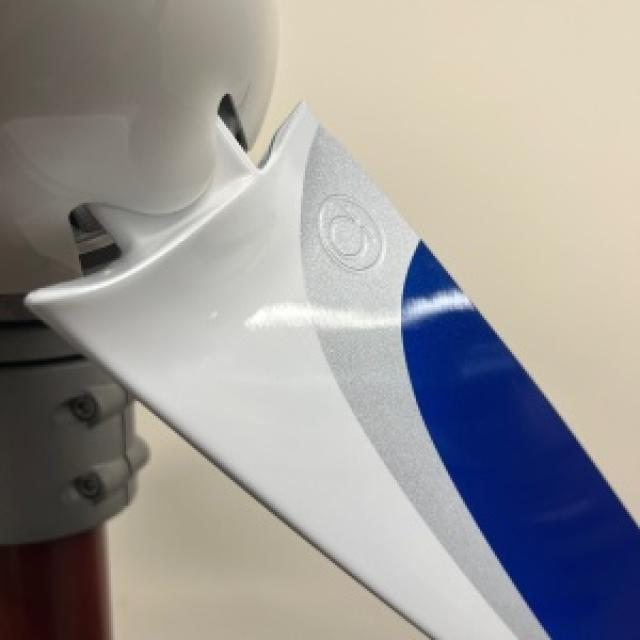healthy: (250, 0, 638, 518), (109, 410, 420, 638)
